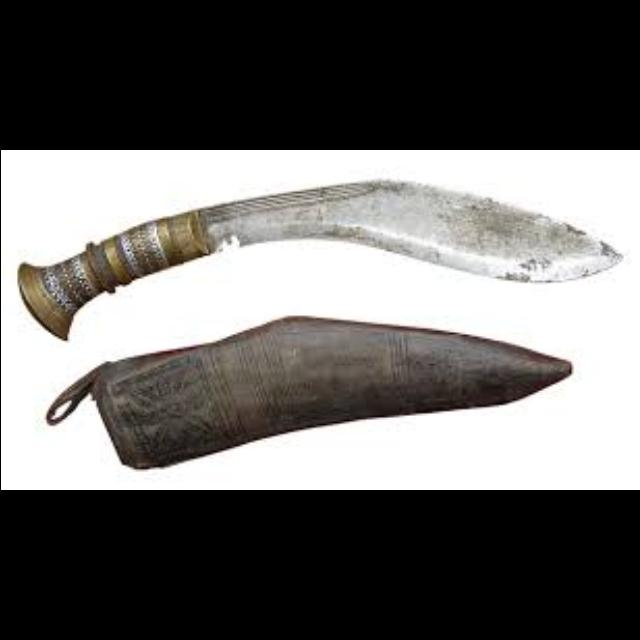knife: (15, 177, 623, 339)
